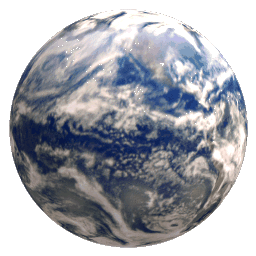planet: (9, 4, 252, 250)
